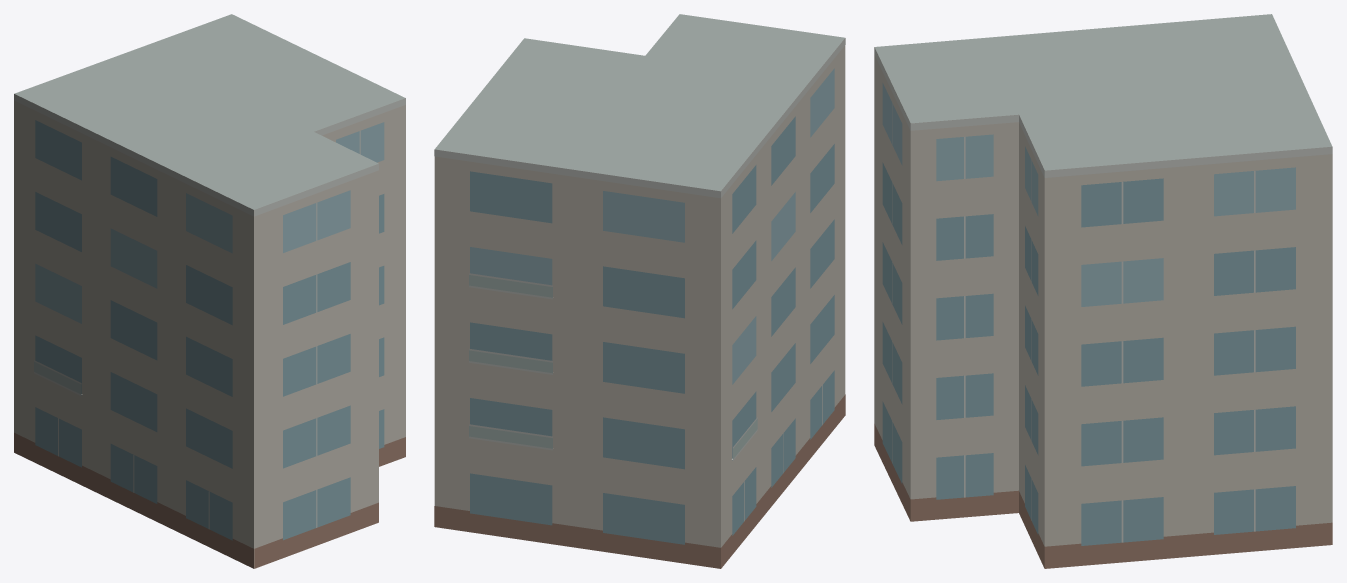
The model's file is survey-upis-32988459.glb.
3 views of the same model, side by side, from view 1: azimuth 30°, elevation 25°; view 2: azimuth 150°, elevation 25°; view 3: azimuth 270°, elevation 25° (orthographic). The views are drawn at different scales.
Visible parts, largest first — view 1: survey-upis-32988459.tmp; view 2: survey-upis-32988459.tmp; view 3: survey-upis-32988459.tmp.
Part boxes in pixels (<box>): survey-upis-32988459.tmp: <box>14,14,405,568</box>; survey-upis-32988459.tmp: <box>434,14,845,568</box>; survey-upis-32988459.tmp: <box>874,14,1332,568</box>.
Size of the model in its own units: 11.1 by 13.15 by 13.72.
